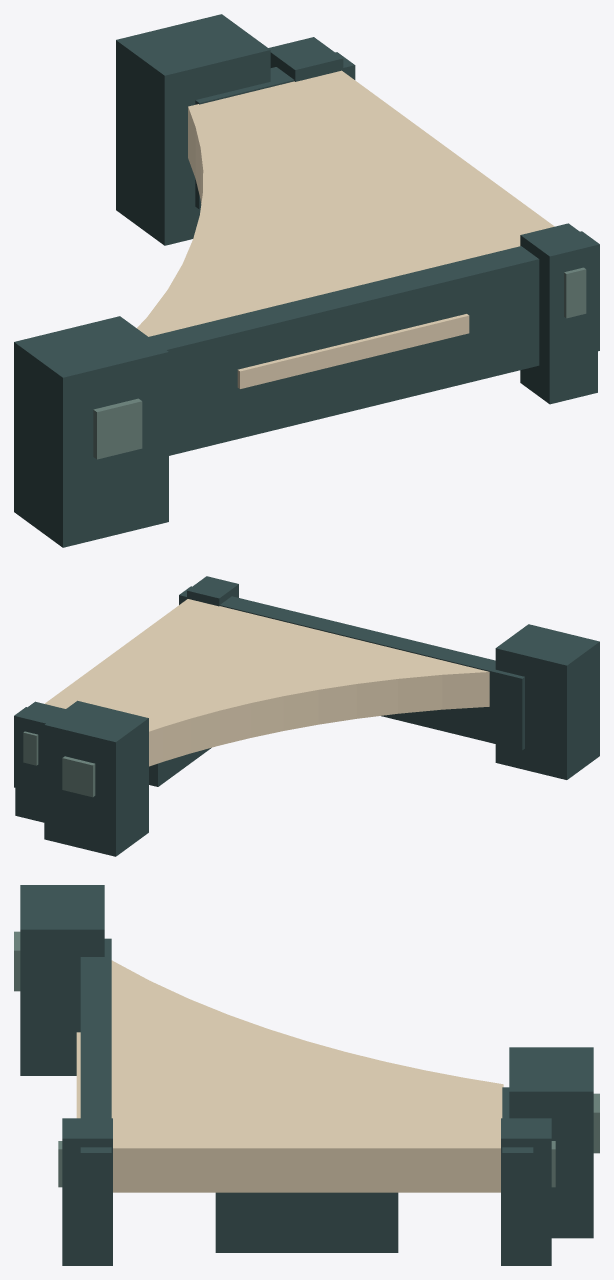
The model's file is Pier_Angled_35.glb.
3 renders of one model, top to bottom at view 1: azimuth 30°, elevation 25°; view 2: azimuth 150°, elevation 25°; view 3: azimuth 270°, elevation 25°, orthographic. The views are drawn at different scales.
Parts seen in each view (by area): view 1: Pier_Angled_35; view 2: Pier_Angled_35; view 3: Pier_Angled_35.
Part boxes in pixels (x1=…): Pier_Angled_35: x1=14, y1=14, x2=599, y2=547; Pier_Angled_35: x1=14, y1=576, x2=599, y2=856; Pier_Angled_35: x1=14, y1=885, x2=599, y2=1265.
Bounding box in the file's own units: 4.05 × 1.15 × 4.17.
